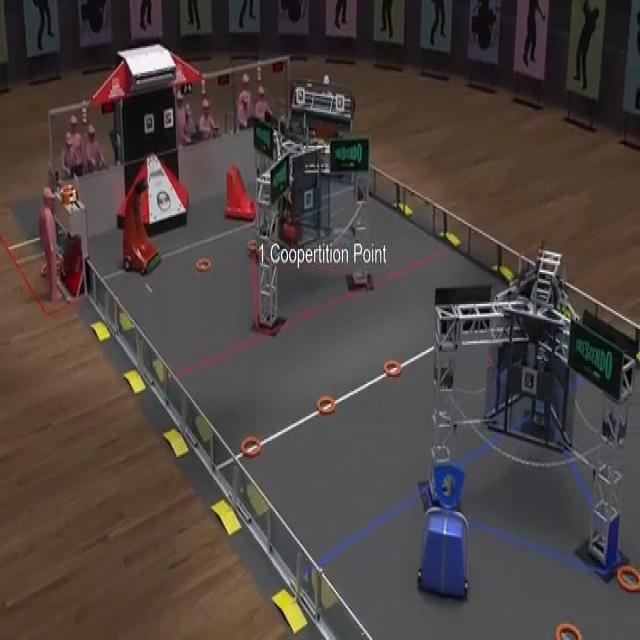notes: (617, 565, 640, 594), (553, 623, 583, 640), (240, 437, 262, 456), (316, 396, 336, 414), (384, 359, 402, 376), (195, 258, 212, 272)
